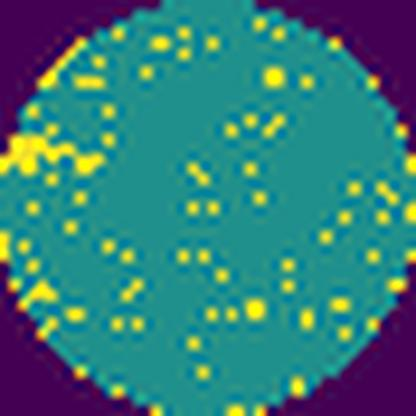Loc: (0, 137, 106, 172)
